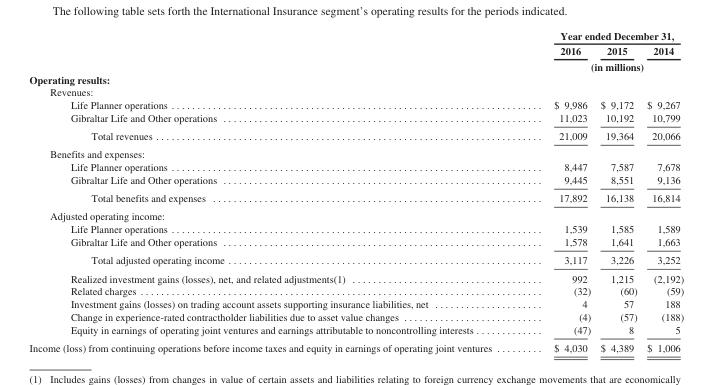table: (28, 29, 683, 353)
table column: (28, 29, 522, 353), (522, 29, 594, 353), (594, 29, 641, 353), (641, 29, 683, 353)
table column header: (28, 29, 683, 72)
table projected row header: (28, 144, 683, 160), (28, 206, 683, 222), (28, 72, 683, 85), (28, 85, 683, 98)
table row: (28, 126, 683, 144), (28, 188, 683, 206), (28, 250, 683, 268), (28, 42, 683, 58), (28, 144, 683, 160), (28, 206, 683, 222), (28, 268, 683, 284), (28, 111, 683, 126), (28, 173, 683, 188), (28, 235, 683, 250), (28, 323, 683, 338), (28, 338, 683, 353), (28, 58, 683, 72), (28, 29, 683, 42), (28, 72, 683, 85), (28, 85, 683, 98), (28, 98, 683, 111), (28, 160, 683, 173), (28, 222, 683, 235), (28, 284, 683, 297), (28, 297, 683, 310), (28, 310, 683, 323)
table spanning cell: (522, 58, 683, 72), (522, 29, 683, 42)
